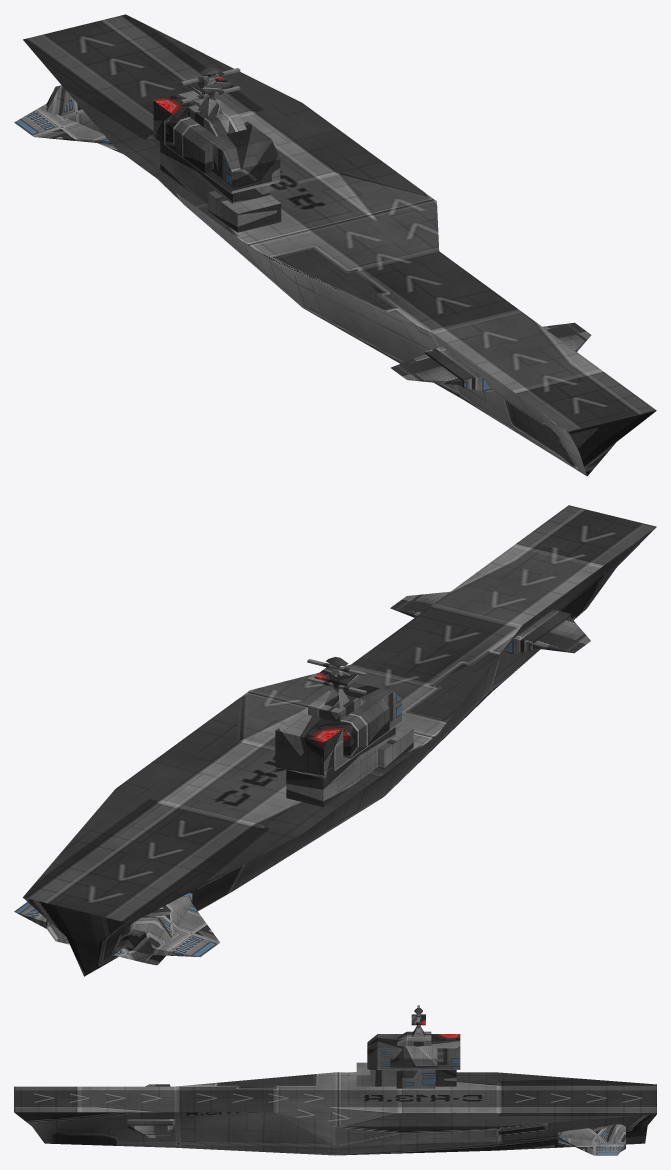
The model's file is Carrier.obj.
3 views of the same model, one above another, from view 1: azimuth 30°, elevation 25°; view 2: azimuth 150°, elevation 25°; view 3: azimuth 270°, elevation 25° (orthographic). The views are drawn at different scales.
Visible parts, largest first — view 1: Carrier; view 2: Carrier; view 3: Carrier.
Part boxes in pixels (box(x1,y1,x2,y2)): Carrier: box(14, 14, 656, 476); Carrier: box(14, 505, 656, 976); Carrier: box(14, 1005, 656, 1155).
Size of the model in its own units: 1 by 1 by 5.
